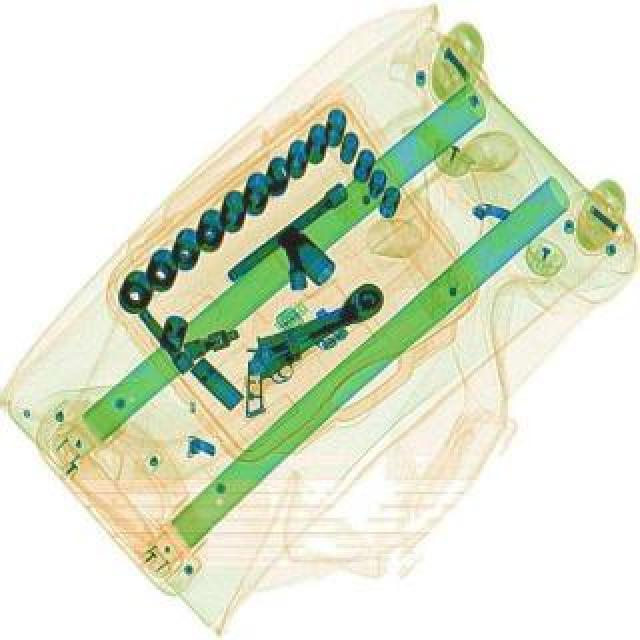gun: (218, 294, 402, 418)
